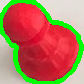Red Pawn: (2, 2, 80, 82)
